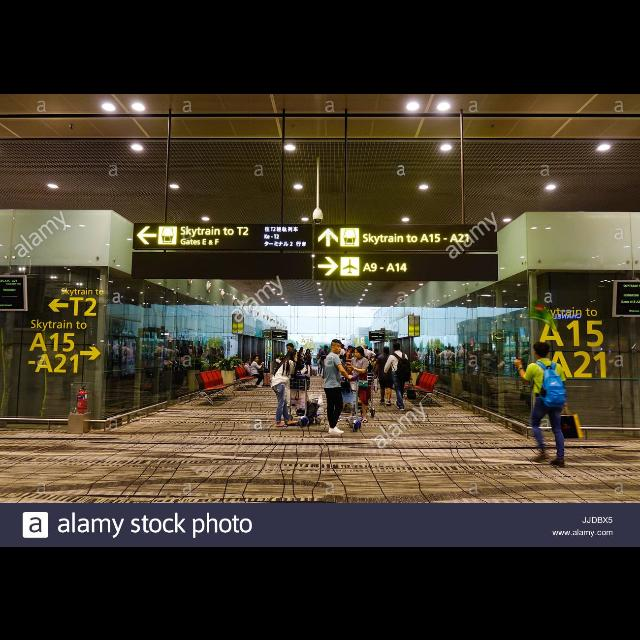head: (534, 340, 550, 358), (330, 340, 342, 354), (288, 348, 298, 362), (355, 346, 365, 358), (286, 342, 294, 352), (392, 342, 400, 351), (384, 346, 391, 354), (252, 356, 260, 362), (245, 358, 251, 364), (276, 354, 282, 360), (300, 346, 304, 352), (306, 348, 310, 354)
person: (512, 339, 570, 468), (322, 337, 354, 438), (269, 346, 301, 428), (382, 340, 418, 412), (342, 346, 372, 424), (282, 341, 308, 407), (372, 344, 398, 408), (242, 355, 268, 383), (248, 353, 266, 389), (295, 344, 305, 382), (303, 347, 315, 378), (275, 353, 291, 372)
